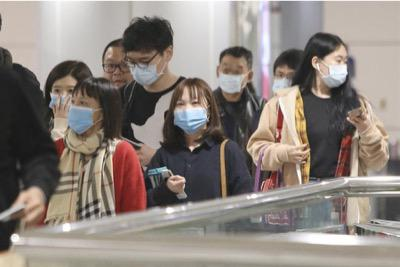with_mask: (172, 98, 209, 134), (125, 54, 164, 87), (66, 93, 95, 135), (319, 54, 349, 90), (217, 60, 245, 96), (49, 84, 76, 111), (271, 70, 294, 98)
without_mask: (102, 56, 133, 91)
